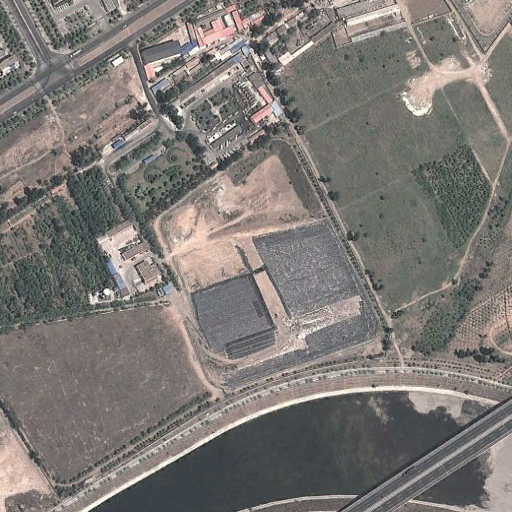lf: (189, 222, 382, 390)
